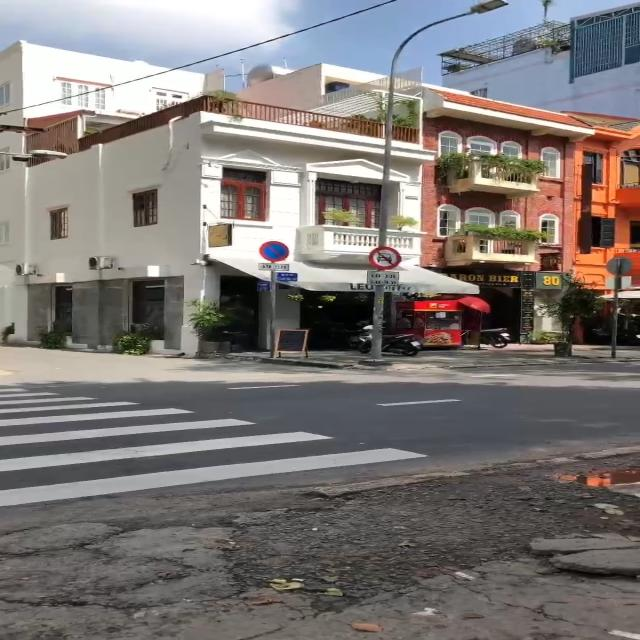Bien bao cam do xe: (259, 239, 291, 264)
Bien bao cam xe oto: (366, 242, 406, 271)
